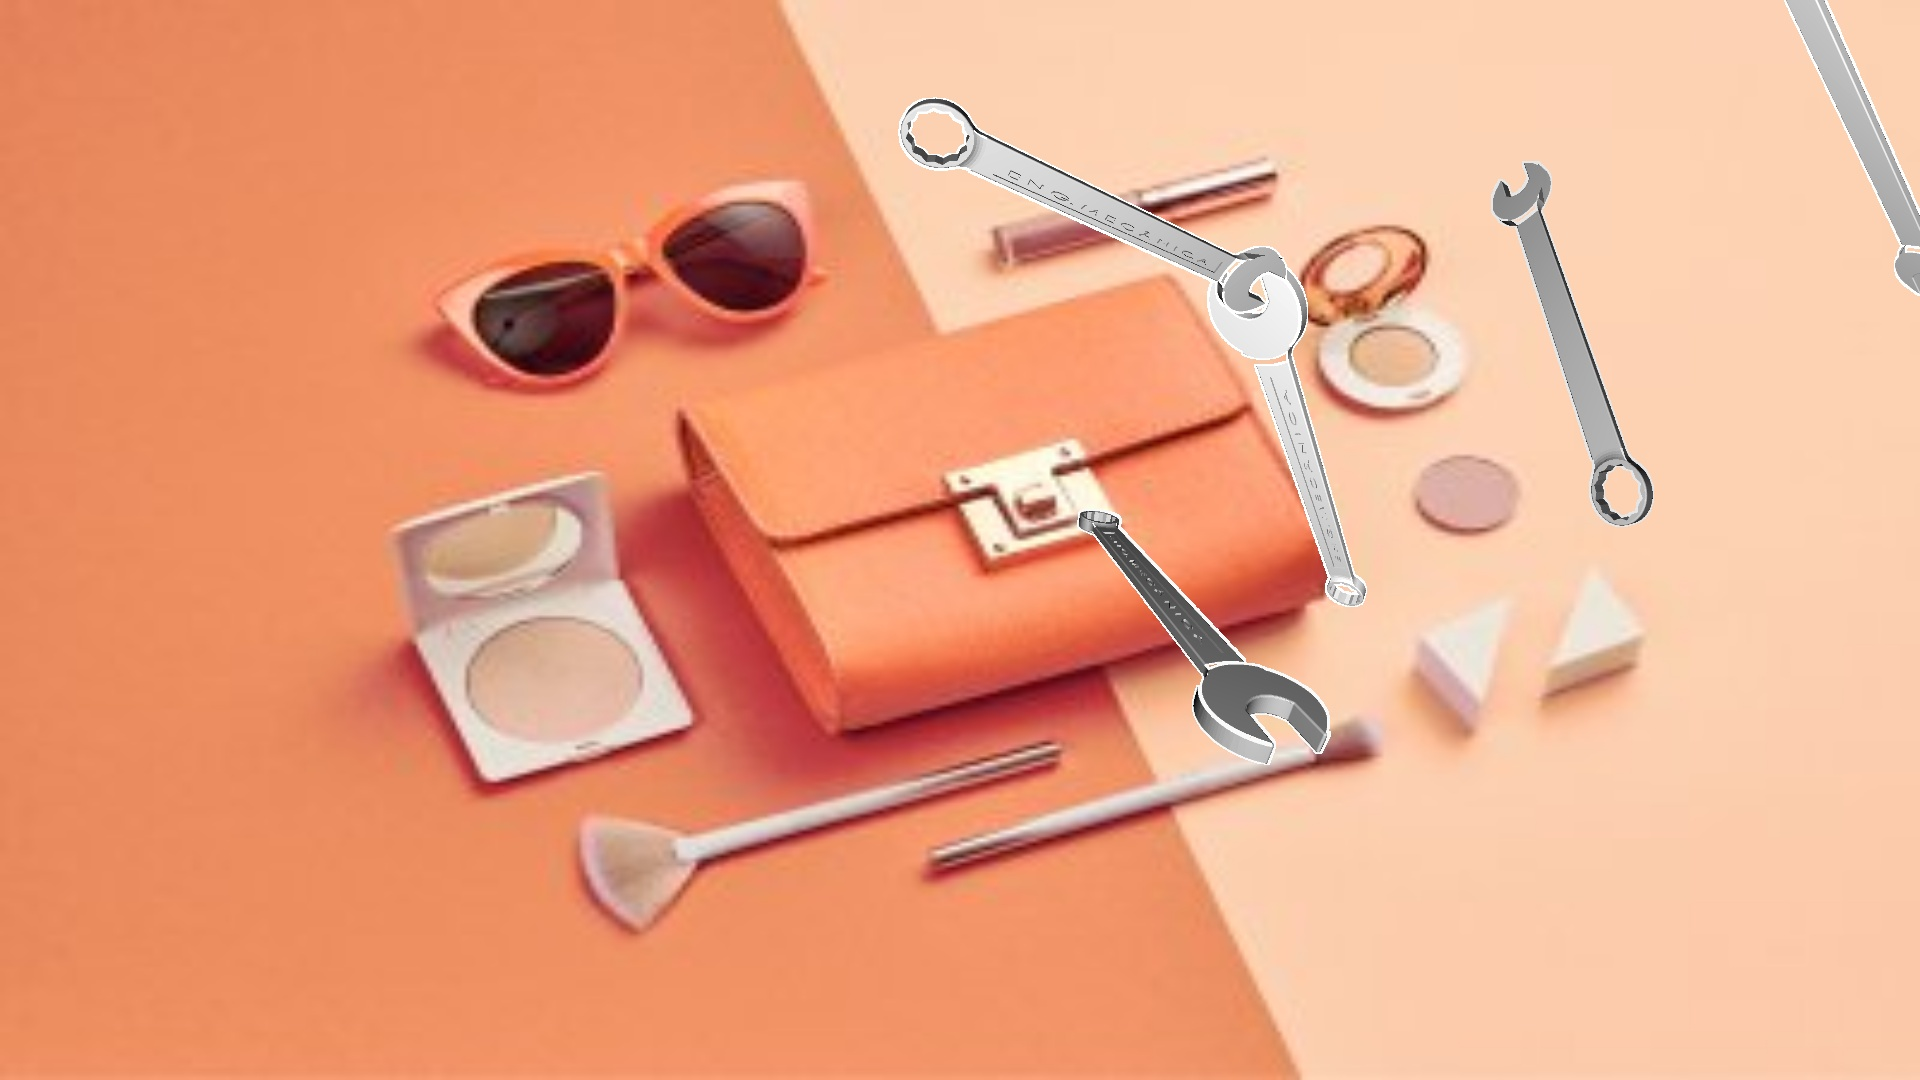Mixed Key: (898, 98, 1286, 313), (1077, 509, 1331, 764), (1491, 161, 1654, 526), (1207, 266, 1366, 607), (1784, 0, 1919, 295)
